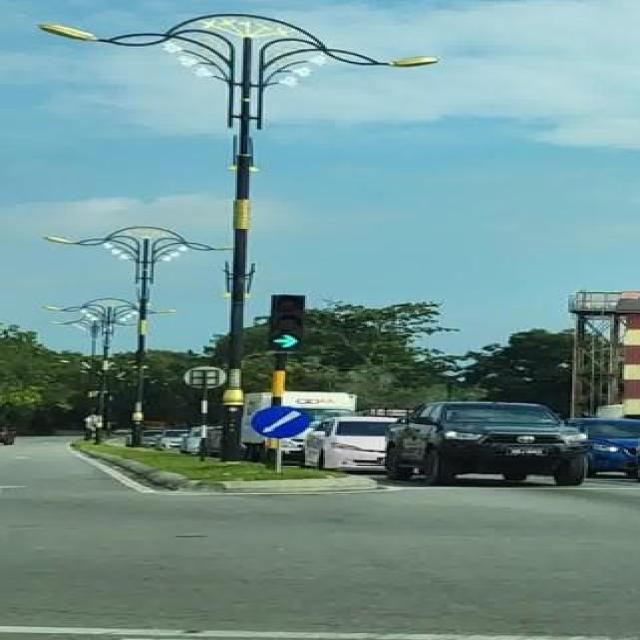green_light: (265, 294, 305, 350)
